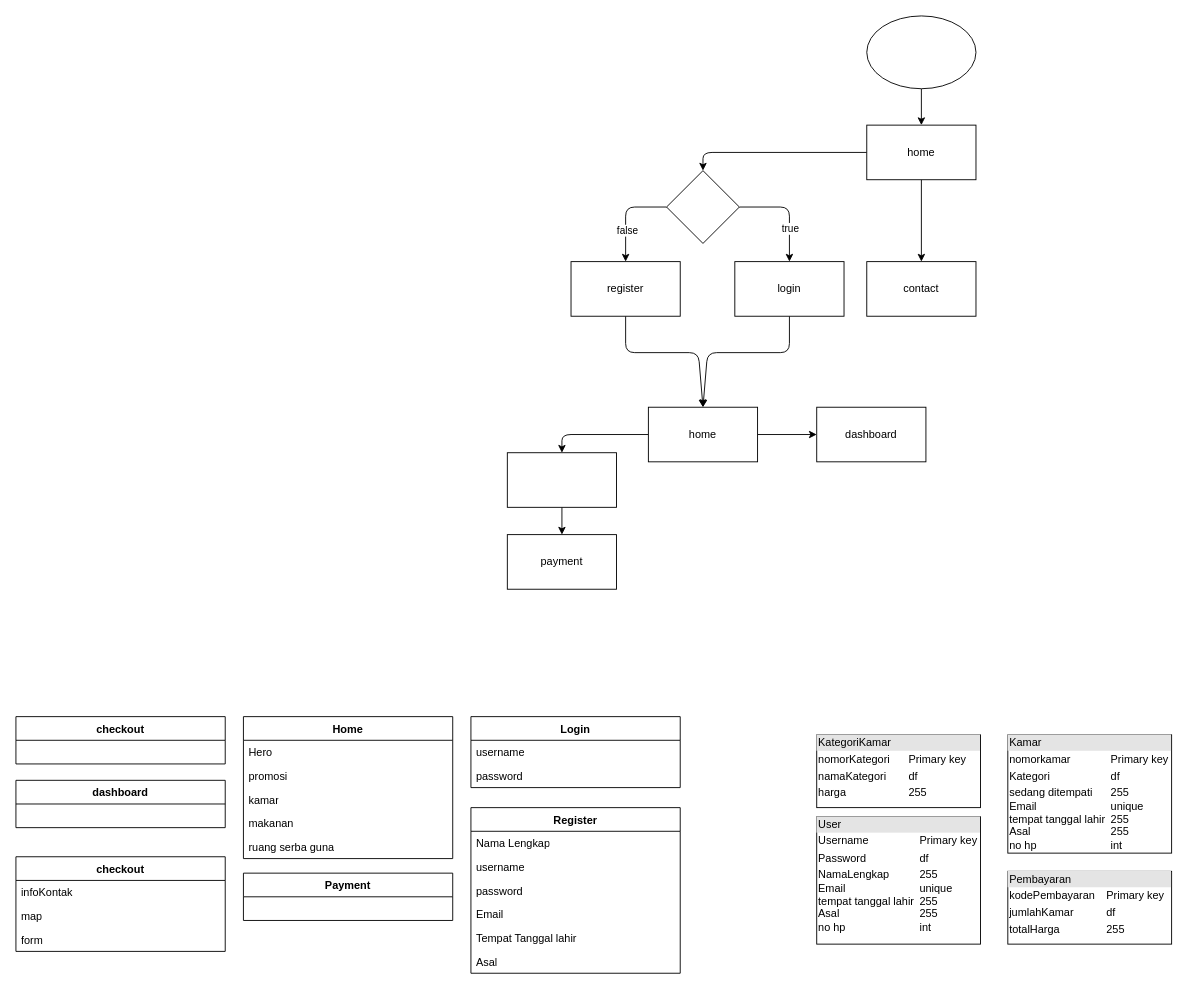
Some shapes in this 1188 by 992 pixel diagram are drawn without their labels. Each missing label, with the box of its shape:
have account: (666, 170, 739, 243)
product: (506, 452, 617, 507)
start: (866, 15, 976, 89)
